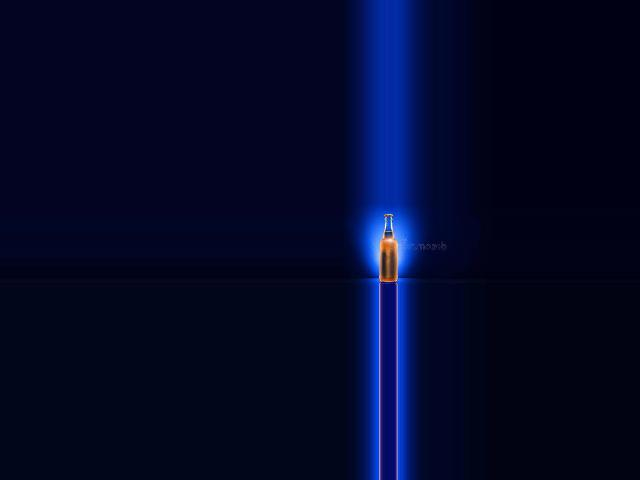beer: (378, 214, 397, 282)
